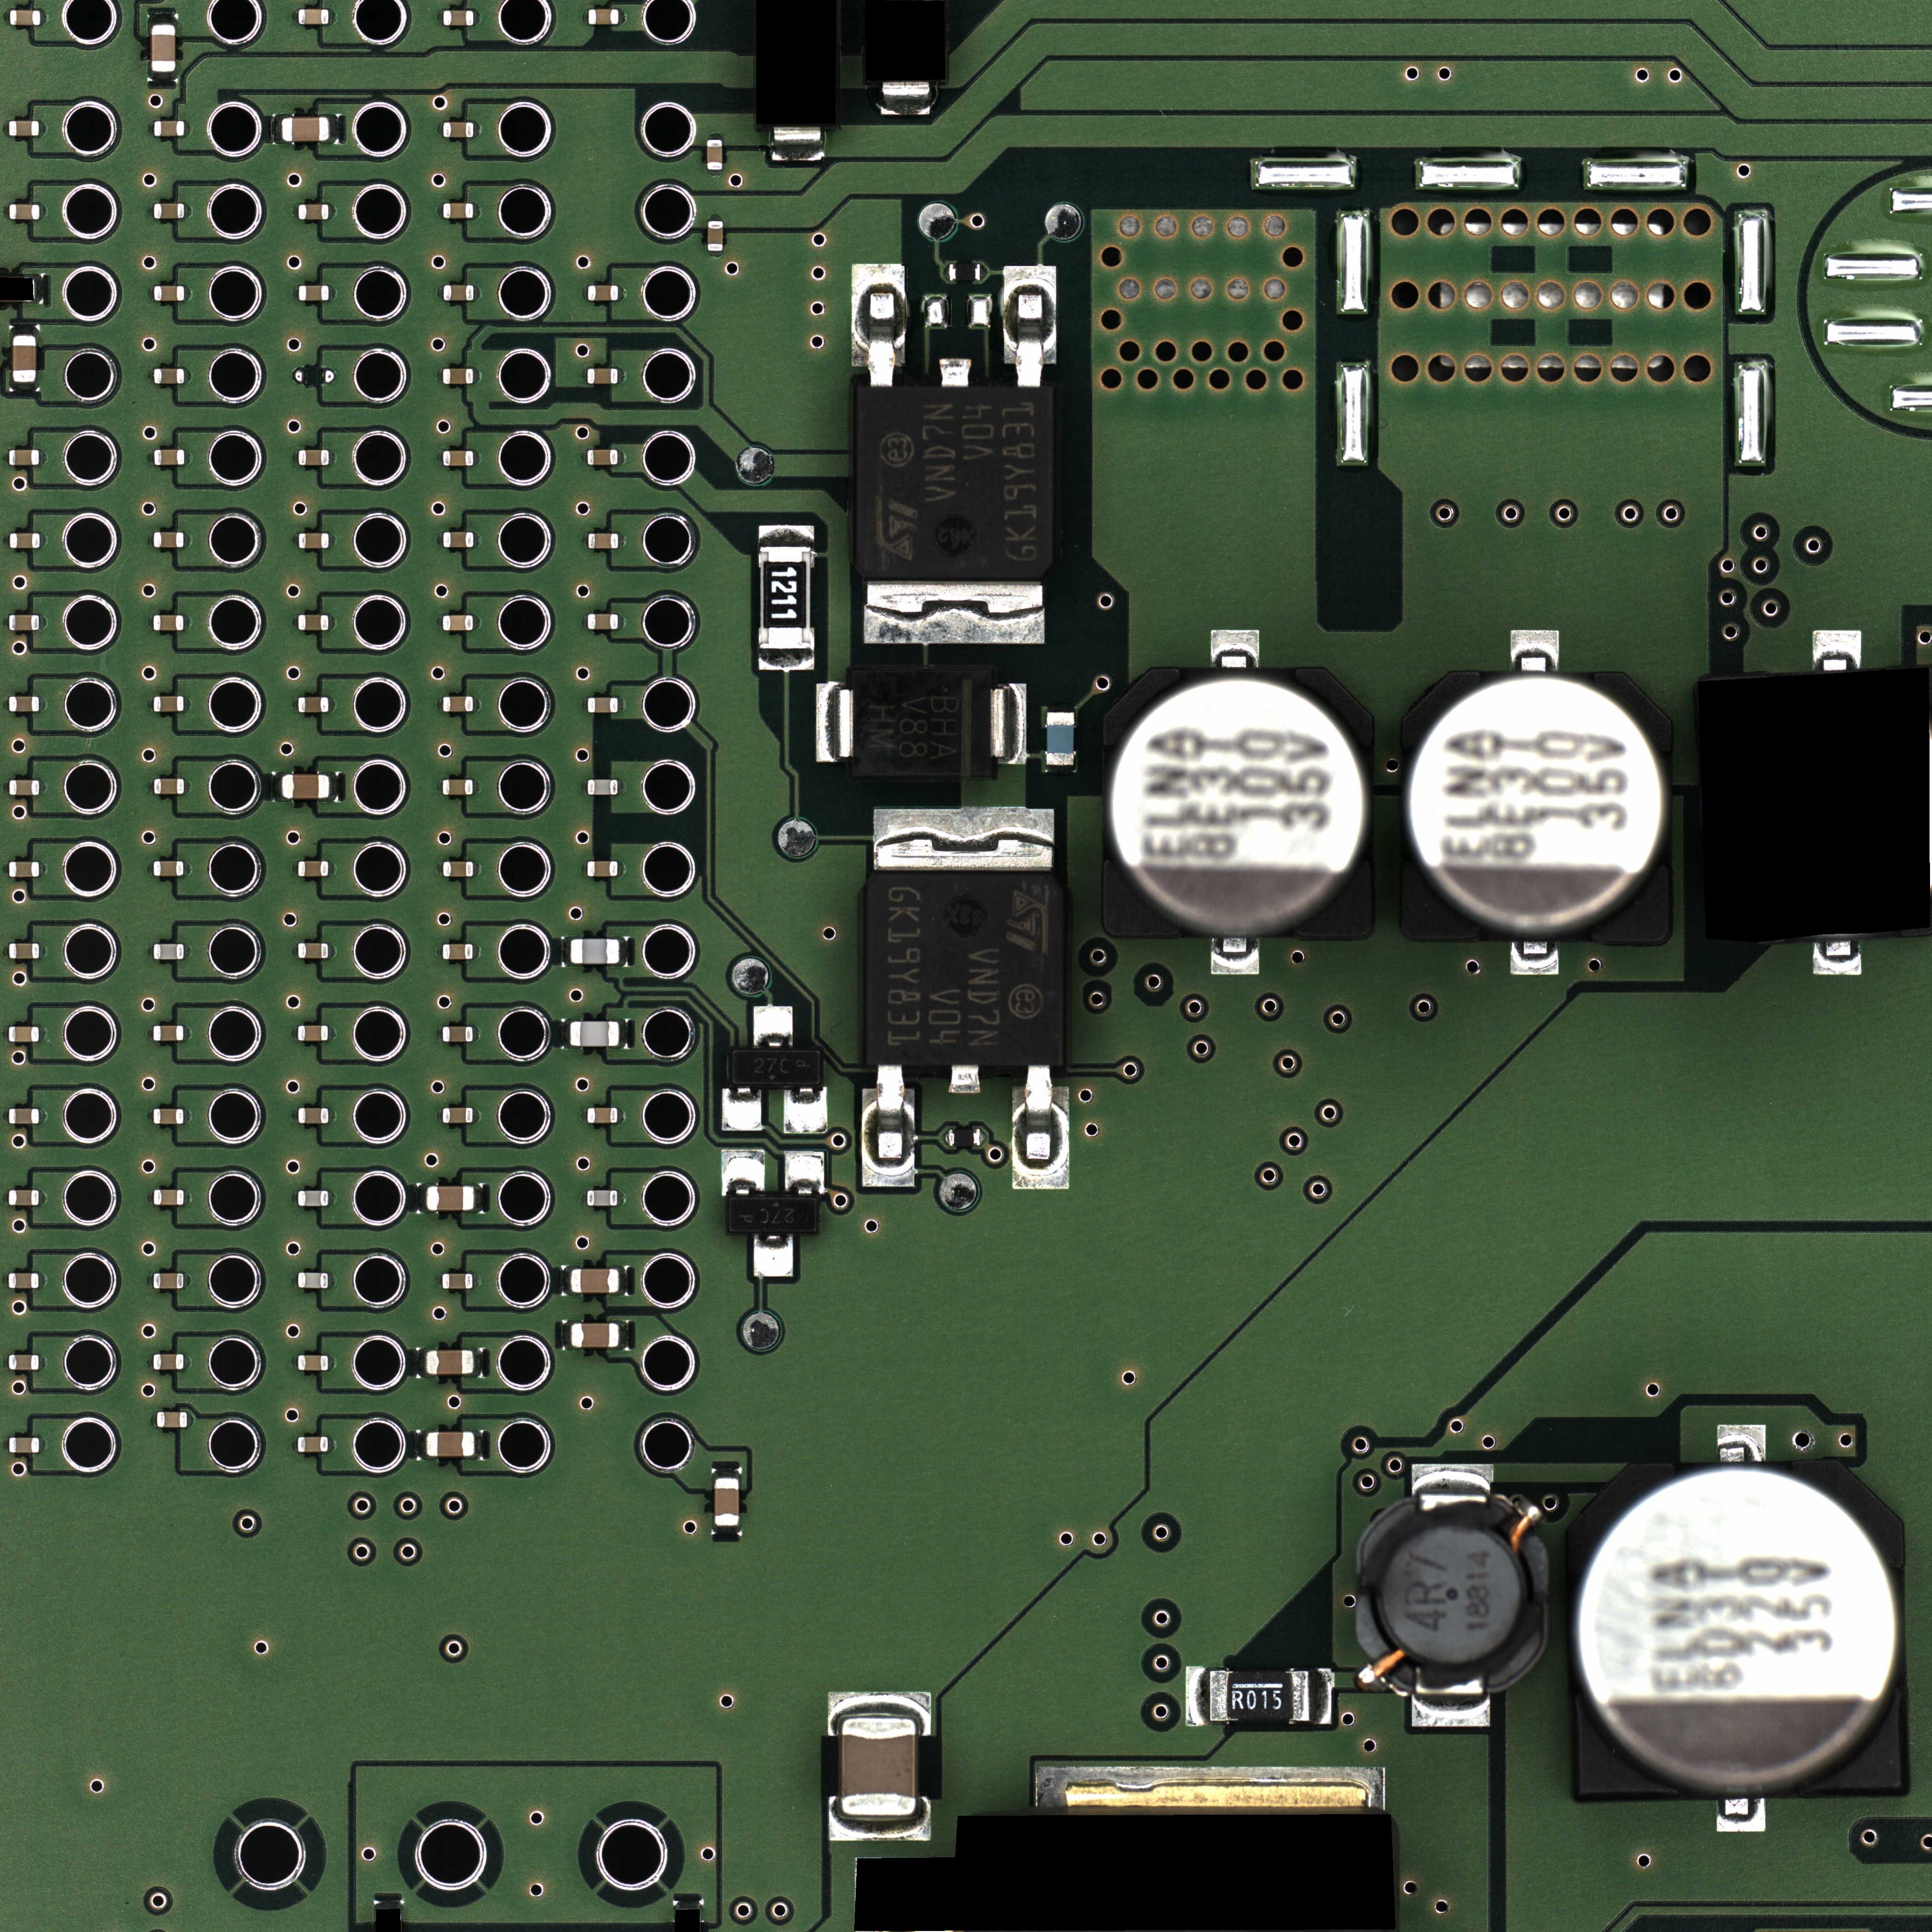Package: (1563, 1459, 1911, 1797), (1398, 671, 1673, 942), (1101, 667, 1374, 938), (854, 386, 1056, 582), (864, 869, 1063, 1065), (1355, 1496, 1546, 1694), (853, 669, 992, 778), (840, 1717, 918, 1816), (760, 546, 812, 649), (1209, 1671, 1310, 1721), (730, 1048, 822, 1087), (727, 1195, 818, 1233), (1047, 712, 1074, 765), (571, 939, 620, 965), (570, 1021, 620, 1047), (426, 1432, 475, 1457), (426, 1350, 474, 1375), (426, 1186, 474, 1211), (282, 774, 330, 799), (715, 1478, 739, 1526), (571, 1323, 619, 1348), (571, 1269, 619, 1293), (151, 24, 176, 72), (282, 117, 329, 142), (12, 336, 36, 382), (949, 1128, 980, 1147), (950, 264, 981, 281), (9, 1437, 40, 1453), (153, 1354, 184, 1370), (154, 449, 185, 465), (587, 1190, 618, 1206), (9, 943, 40, 959), (443, 285, 474, 301), (154, 121, 185, 137), (153, 1025, 184, 1041), (9, 615, 39, 630), (587, 449, 618, 465), (9, 1026, 39, 1042), (153, 1109, 184, 1124), (298, 1025, 328, 1041), (8, 1354, 39, 1370), (443, 532, 474, 547), (442, 615, 473, 630), (297, 1437, 328, 1452), (298, 615, 329, 630), (298, 697, 329, 713), (587, 614, 618, 629), (9, 533, 40, 548), (8, 1190, 39, 1206), (298, 1108, 329, 1123), (298, 861, 329, 876), (9, 862, 40, 877), (443, 122, 474, 138), (588, 533, 619, 549), (298, 286, 329, 301), (443, 369, 474, 384), (442, 1026, 473, 1042), (443, 862, 474, 877), (442, 944, 473, 960), (708, 221, 723, 251), (154, 203, 185, 219), (588, 286, 619, 301), (587, 369, 618, 384), (153, 615, 184, 630), (153, 532, 184, 547), (9, 780, 40, 795), (588, 697, 618, 713), (9, 696, 39, 712), (153, 696, 184, 712), (9, 450, 39, 465), (443, 10, 474, 26), (298, 450, 329, 465), (298, 533, 329, 548), (154, 779, 184, 794), (298, 1273, 328, 1288), (153, 1190, 184, 1205), (298, 1191, 328, 1206), (8, 1273, 39, 1288), (157, 1412, 187, 1427), (153, 1273, 184, 1289), (153, 944, 184, 960), (9, 204, 40, 220), (9, 121, 39, 136), (298, 943, 328, 959), (9, 1109, 39, 1124), (154, 369, 184, 384), (587, 1108, 618, 1123), (707, 140, 723, 170), (298, 204, 329, 220), (587, 861, 618, 876), (443, 203, 473, 219), (588, 9, 619, 25), (442, 780, 473, 795), (442, 1274, 473, 1289), (588, 779, 618, 795), (443, 451, 474, 466), (443, 697, 473, 712), (10, 10, 40, 25), (298, 1355, 328, 1370), (442, 1108, 473, 1123), (153, 861, 184, 876), (298, 9, 329, 24), (154, 286, 184, 301)
Solder: (1034, 1766, 1384, 1806), (865, 582, 1044, 644), (873, 808, 1055, 869), (1012, 1066, 1070, 1190), (851, 264, 906, 386), (861, 1066, 916, 1187), (1003, 265, 1057, 386), (816, 683, 853, 762), (991, 684, 1026, 765), (1411, 1463, 1493, 1497), (829, 1692, 931, 1718), (1411, 1695, 1490, 1727), (829, 1817, 931, 1840), (873, 81, 937, 116), (766, 127, 826, 162), (1811, 629, 1861, 670), (722, 1149, 765, 1195), (1510, 630, 1559, 671), (784, 1088, 827, 1133), (1210, 629, 1259, 667), (1716, 1424, 1766, 1461), (1210, 938, 1259, 974), (784, 1151, 824, 1194), (1812, 940, 1862, 975), (722, 1088, 762, 1130), (754, 1234, 793, 1277), (1716, 1798, 1766, 1832), (753, 1006, 793, 1047), (1511, 942, 1559, 975), (1186, 1667, 1209, 1726), (1310, 1669, 1332, 1725), (758, 650, 815, 671), (759, 525, 814, 546), (939, 358, 972, 386), (949, 1066, 982, 1094), (35, 275, 45, 305), (711, 1527, 742, 1536), (10, 325, 39, 335), (712, 1468, 741, 1478), (147, 73, 178, 82), (148, 14, 178, 24), (620, 1320, 629, 1350), (416, 1348, 425, 1378), (272, 773, 281, 801), (417, 1430, 426, 1460), (417, 1183, 426, 1213), (561, 1265, 570, 1296), (1045, 766, 1076, 774), (272, 114, 281, 144), (561, 937, 570, 966), (562, 1320, 571, 1350), (10, 383, 39, 391), (330, 114, 338, 144), (330, 773, 339, 801), (620, 1265, 628, 1296), (561, 1019, 570, 1049), (475, 1348, 483, 1377), (620, 1018, 628, 1049), (620, 937, 628, 966), (475, 1183, 483, 1213), (1046, 704, 1076, 712), (476, 1430, 483, 1460), (328, 1024, 337, 1042), (328, 861, 337, 877), (329, 943, 337, 959), (329, 615, 337, 631), (329, 449, 337, 466), (329, 285, 337, 301), (329, 203, 337, 220), (329, 697, 337, 713), (184, 1273, 192, 1289), (329, 533, 337, 549), (618, 1190, 625, 1207), (618, 448, 625, 466), (145, 368, 153, 385), (146, 1272, 153, 1289), (618, 367, 625, 385), (981, 263, 987, 281), (329, 1108, 336, 1124), (706, 170, 723, 177), (580, 613, 587, 630), (619, 532, 626, 549), (619, 9, 626, 26), (146, 943, 153, 960), (473, 943, 480, 960), (707, 133, 724, 140), (943, 263, 949, 281), (40, 614, 47, 630), (291, 1108, 298, 1124), (184, 1025, 191, 1041), (581, 532, 588, 549), (40, 449, 47, 466), (618, 779, 625, 795), (473, 1108, 480, 1124), (39, 120, 46, 137), (473, 779, 480, 795), (291, 861, 298, 877), (580, 1190, 587, 1206), (184, 615, 191, 630), (707, 251, 723, 258), (184, 532, 191, 548), (184, 861, 191, 876), (184, 944, 191, 960), (436, 861, 443, 877), (184, 1109, 191, 1124), (40, 779, 47, 795), (708, 214, 724, 221), (185, 368, 192, 384), (185, 203, 192, 219), (328, 1437, 335, 1453), (147, 202, 154, 218), (147, 285, 154, 301), (581, 8, 588, 25), (618, 1107, 625, 1124), (619, 613, 625, 630), (188, 1411, 194, 1428), (618, 861, 625, 877), (436, 943, 442, 960), (474, 696, 480, 713), (41, 9, 47, 26), (474, 368, 480, 385), (474, 202, 480, 219), (2, 1437, 9, 1453), (146, 1353, 153, 1370), (185, 286, 192, 301), (184, 696, 191, 712), (291, 8, 298, 25), (184, 1353, 191, 1370), (436, 1108, 442, 1124), (474, 614, 480, 630), (474, 531, 481, 548), (436, 531, 443, 548), (618, 697, 625, 713), (39, 1190, 46, 1206), (292, 449, 298, 466), (40, 943, 46, 959), (474, 450, 480, 466), (39, 1354, 46, 1370), (292, 532, 298, 549), (185, 778, 191, 795), (291, 943, 297, 959), (292, 285, 298, 301), (473, 1026, 480, 1042), (473, 1273, 480, 1289), (3, 532, 9, 549), (435, 1273, 442, 1290), (146, 1189, 153, 1206), (330, 9, 336, 25), (147, 778, 154, 794), (146, 860, 153, 876), (146, 1025, 152, 1041), (3, 9, 9, 26), (291, 1025, 297, 1041), (291, 697, 298, 713), (580, 1108, 587, 1123), (291, 1437, 297, 1452), (980, 1129, 987, 1145), (436, 450, 443, 466), (436, 696, 442, 712), (40, 532, 47, 548), (184, 1190, 191, 1206), (580, 449, 587, 465), (40, 204, 47, 220), (292, 204, 298, 220), (474, 861, 480, 877), (39, 1273, 46, 1289), (40, 1109, 46, 1124), (185, 449, 191, 465), (146, 615, 153, 630), (2, 779, 9, 795), (148, 449, 154, 465), (328, 1355, 335, 1371), (328, 1273, 335, 1289), (147, 696, 153, 712), (146, 1109, 153, 1124), (437, 285, 443, 301), (436, 368, 442, 385), (474, 121, 480, 138), (40, 1437, 46, 1453), (437, 9, 443, 26), (2, 120, 8, 137), (474, 285, 480, 301), (3, 203, 9, 220), (474, 9, 480, 26), (581, 779, 587, 795), (40, 862, 46, 877), (291, 1190, 297, 1207), (582, 285, 588, 301), (581, 697, 587, 713), (943, 1129, 949, 1146), (437, 203, 443, 219), (619, 285, 625, 301), (436, 615, 442, 631), (436, 1026, 442, 1042), (2, 449, 8, 466), (2, 861, 8, 877), (185, 120, 191, 137), (329, 1190, 335, 1207), (291, 1272, 297, 1288), (291, 614, 297, 630), (437, 122, 443, 138), (581, 368, 587, 384), (581, 861, 587, 877), (40, 1026, 46, 1042), (2, 1190, 8, 1206), (2, 696, 8, 712), (147, 532, 153, 548), (147, 120, 153, 136), (151, 1411, 156, 1428), (3, 943, 8, 960), (291, 1355, 297, 1370), (40, 696, 46, 712), (436, 779, 442, 795), (3, 1108, 8, 1124), (3, 1272, 8, 1289), (3, 614, 8, 630), (3, 1026, 8, 1042), (3, 1354, 8, 1370)
